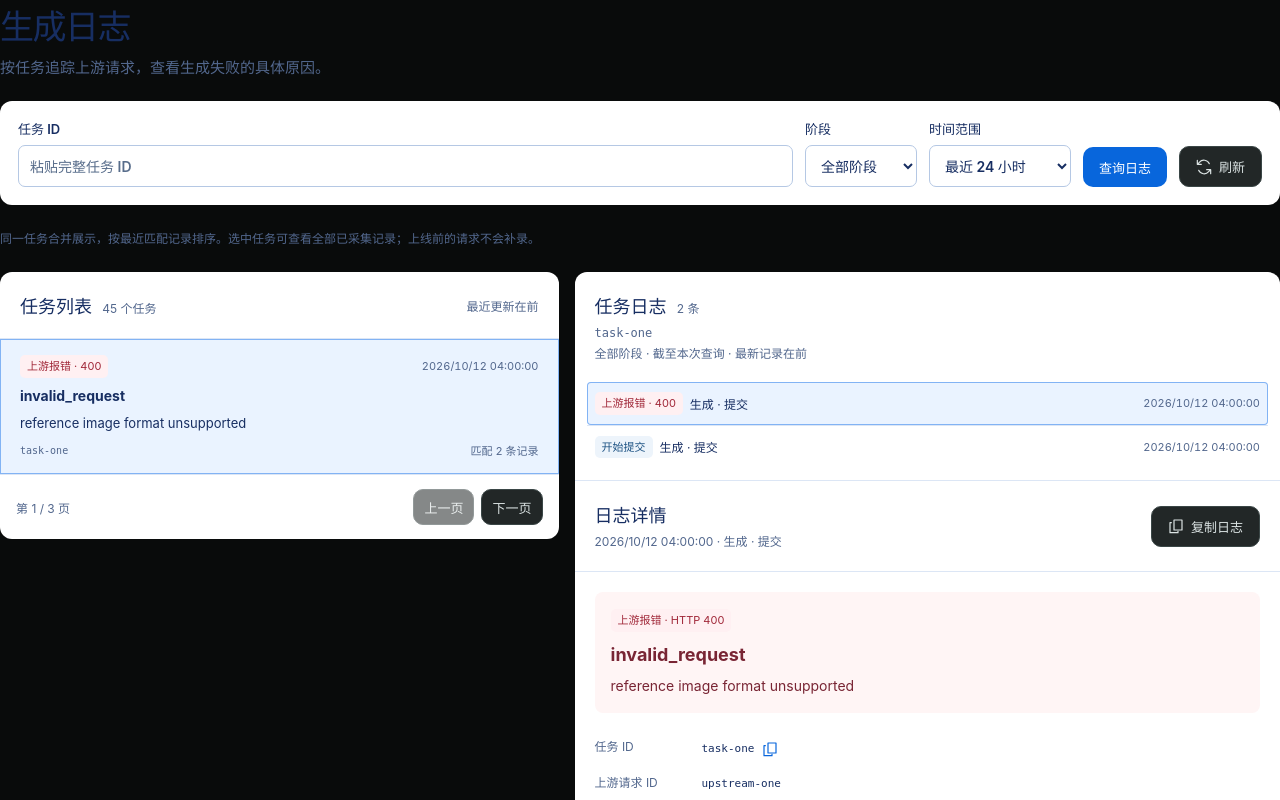
Test case: keeps a stable query cutoff while paging and clears detail when the query changes
Click the button with aria-label "下一页日志" at (512, 508), box [482,490,542,526]
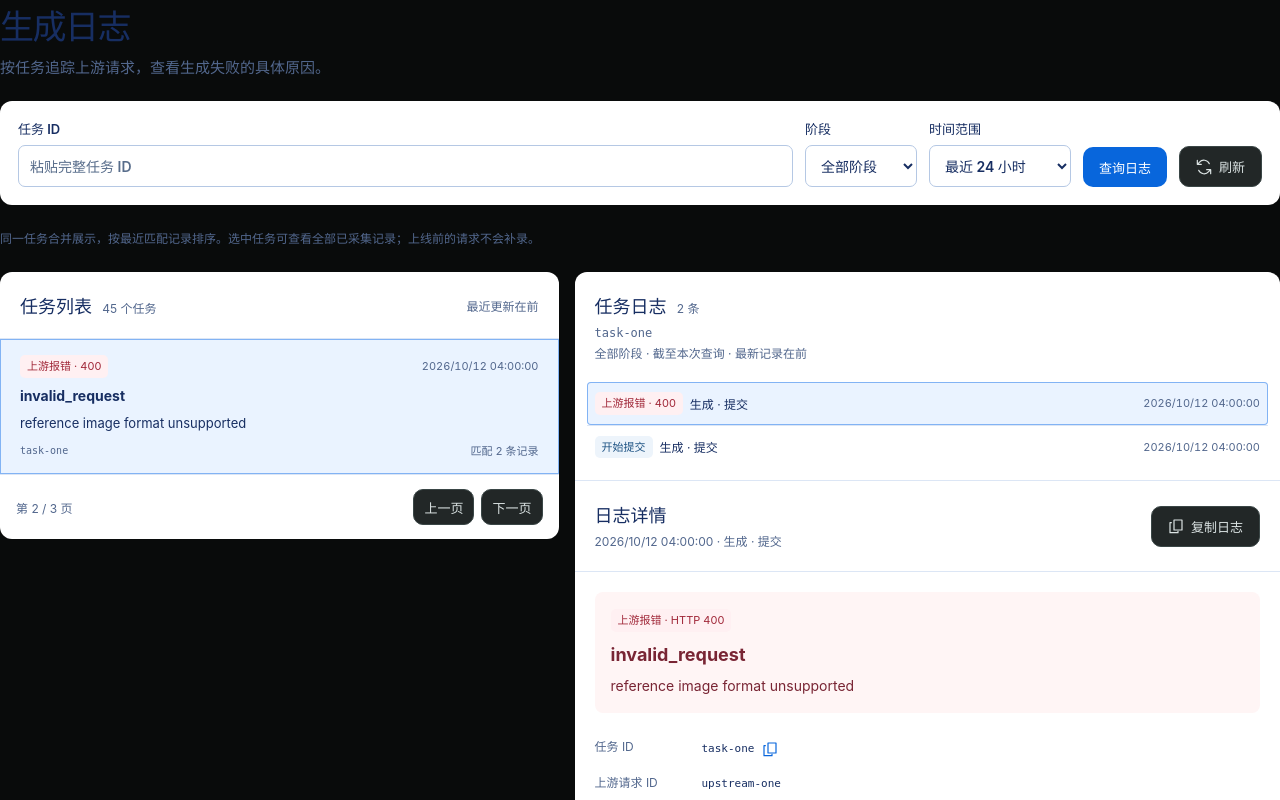
Type "another-task" into the field labelled "任务 ID" at (406, 166), box [18,145,793,187]
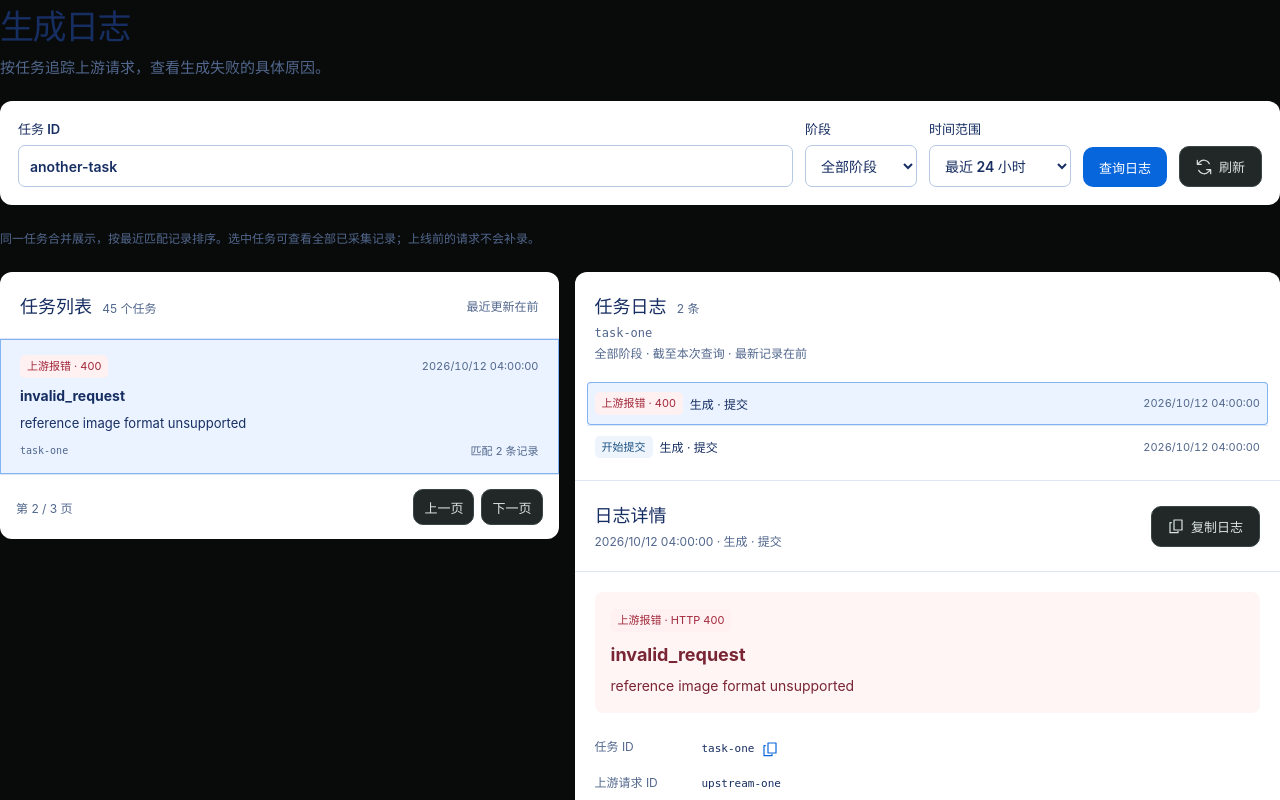
Submit the form, box [0,101,1279,205]
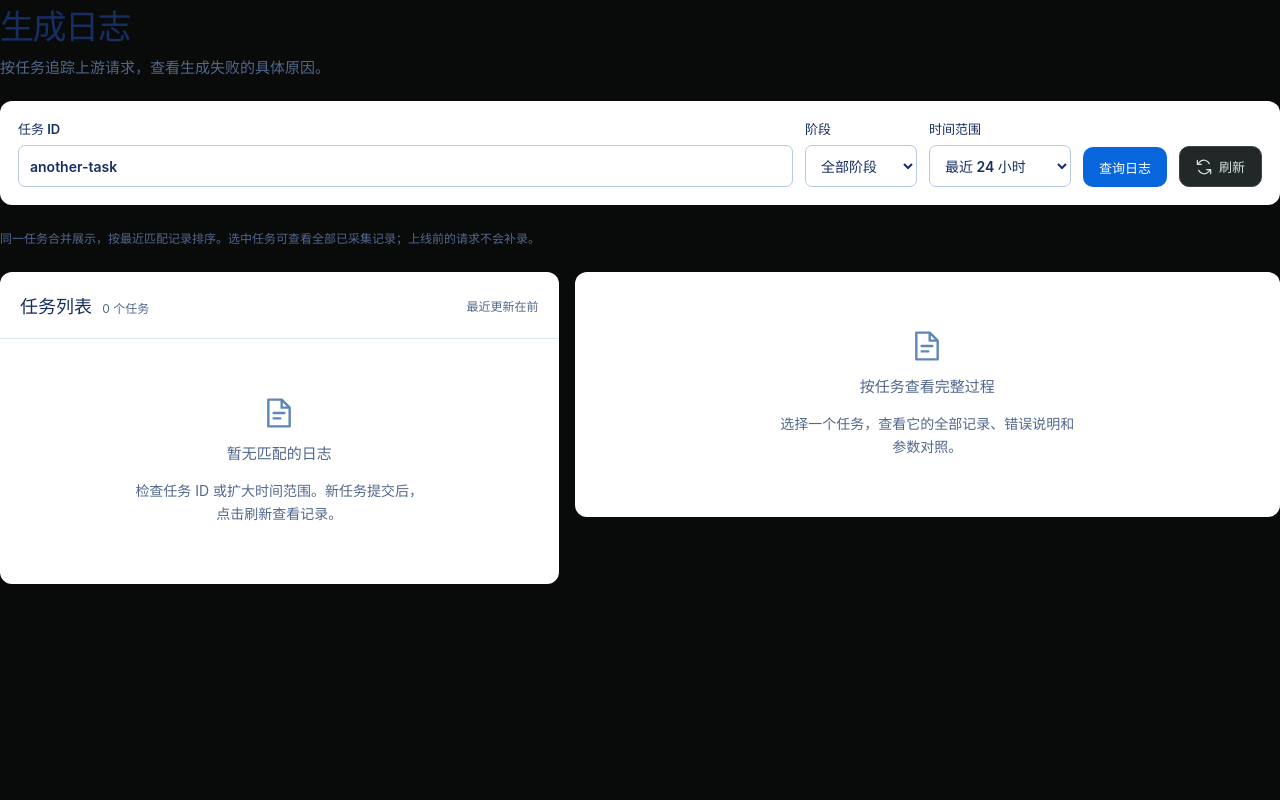
Check: the text "暂无匹配的日志" is shown, box [227,441,332,467]
Check: the text "upstream-one" is gone
